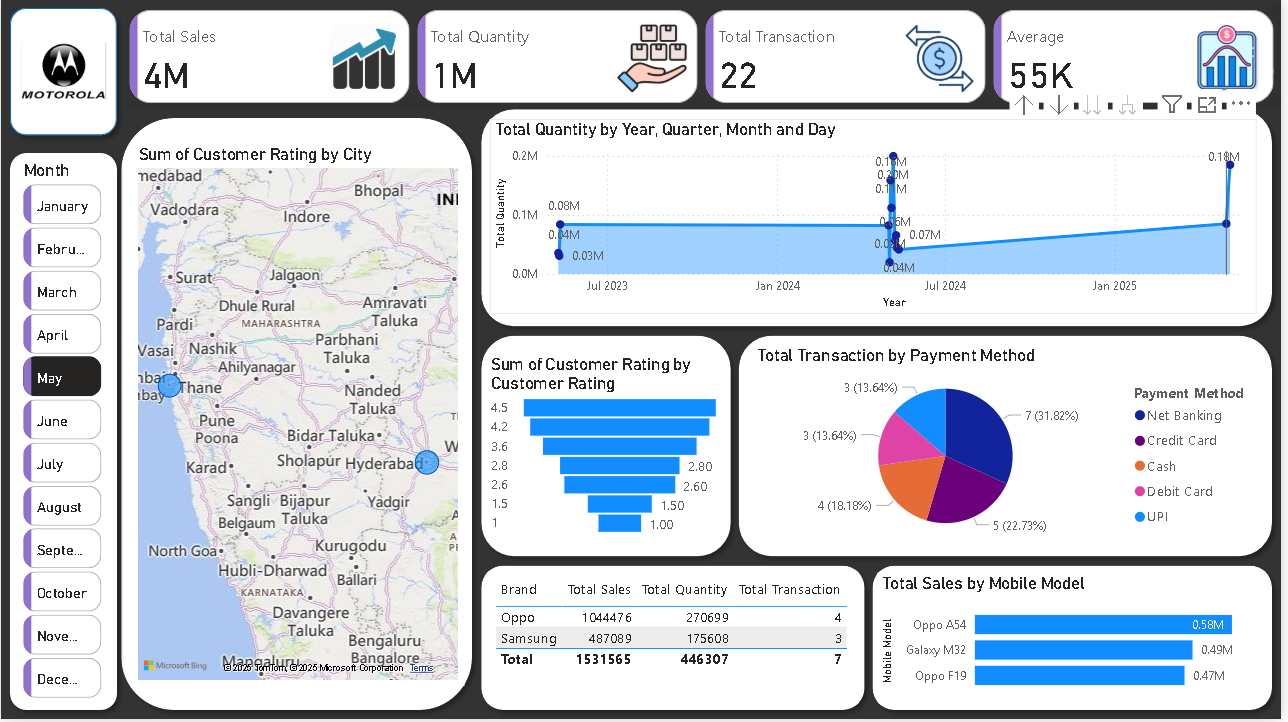

What the dashboard file says about the page in this screenshot:
{"tool":"powerbi","page":{"name":"Page 1","canvas":[1280,720],"ordinal":0},"visuals":[{"type":"shape","box":[471.2,557.5,401.2,162.5],"z":0},{"type":"shape","box":[862.5,557.5,417.5,162.5],"z":1000},{"type":"shape","box":[471.2,327.5,267.5,238.8],"z":2000},{"type":"shape","box":[111.2,110,368.8,610],"z":3000},{"type":"shape","box":[728.8,327.5,551.2,238.8],"z":4000},{"type":"shape","box":[471.2,101.2,808.8,235],"z":5000},{"type":"shape","box":[0,0,124.7,145.2],"z":6000},{"type":"image","box":[13.7,17.8,97.3,109.6],"z":7000},{"type":"shape","box":[0,145,125,575],"z":8000},{"type":"advancedSlicerVisual","fields":{"Values":["Sheet1.Date.Variation.Date Hierarchy.Month"]},"box":[17.5,161.2,88.8,547.5],"z":9000},{"type":"cardVisual","fields":{"Data":["Sheet1.Total Sales","Sheet1.Total Quantity","Sheet1.Total Transaction","Sheet1.Average"]},"box":[123.8,6.2,1156.2,103.8],"z":10000},{"type":"lineChart","fields":{"Category":["Sheet1.Date.Variation.Date Hierarchy.Year","Sheet1.Date.Variation.Date Hierarchy.Quarter","Sheet1.Date.Variation.Date Hierarchy.Month","Sheet1.Date.Variation.Date Hierarchy.Day"],"Y":["Sheet1.Total Quantity"]},"box":[488.8,120,767.5,195],"z":11000},{"type":"clusteredBarChart","fields":{"Category":["Sheet1.Mobile Model"],"Y":["Sheet1.Total Sales"]},"box":[876.2,573.8,383.8,128.8],"z":12000},{"type":"map","fields":{"Size":["Sum(Sheet1.Customer Rating)"],"Category":["Sheet1.City"]},"box":[132.5,145,330,541.2],"z":13000},{"type":"pieChart","fields":{"Category":["Sheet1.Payment Method"],"Y":["Sheet1.Total Transaction"]},"box":[751.2,346.2,508.8,202.5],"z":14000},{"type":"funnel","fields":{"Category":["Sheet1.Customer Rating"],"Y":["Sum(Sheet1.Customer Rating)"]},"box":[485,355,240,185],"z":15000},{"type":"tableEx","fields":{"Values":["Sheet1.Brand","Sheet1.Total Sales","Sheet1.Total Quantity","Sheet1.Total Transaction"]},"box":[488.8,573.8,365,128.8],"z":16000}]}

Visuals, with their boxes in screenshot pixels (x1, y1, x2, y2), scaled from the page's 1280x720 canvas onto the 1288x722 screenshot:
shape: <bbox>474, 559, 878, 721</bbox>
shape: <bbox>868, 559, 1287, 721</bbox>
shape: <bbox>474, 328, 743, 568</bbox>
shape: <bbox>112, 110, 483, 721</bbox>
shape: <bbox>733, 328, 1287, 568</bbox>
shape: <bbox>474, 101, 1287, 337</bbox>
shape: <bbox>0, 0, 125, 146</bbox>
image: <bbox>14, 18, 112, 128</bbox>
shape: <bbox>0, 145, 126, 721</bbox>
advancedSlicerVisual - Sheet1.Date.Variation.Date Hierarchy.Month: <bbox>18, 162, 107, 711</bbox>
cardVisual - Sheet1.Total Sales x Sheet1.Total Quantity: <bbox>125, 6, 1287, 110</bbox>
lineChart - Sheet1.Date.Variation.Date Hierarchy.Year x Sheet1.Date.Variation.Date Hierarchy.Quarter: <bbox>492, 120, 1264, 316</bbox>
clusteredBarChart - Sheet1.Mobile Model x Sheet1.Total Sales: <bbox>882, 575, 1268, 705</bbox>
map - Sum(Sheet1.Customer Rating) x Sheet1.City: <bbox>133, 145, 465, 688</bbox>
pieChart - Sheet1.Payment Method x Sheet1.Total Transaction: <bbox>756, 347, 1268, 550</bbox>
funnel - Sheet1.Customer Rating x Sum(Sheet1.Customer Rating): <bbox>488, 356, 730, 542</bbox>
tableEx - Sheet1.Brand x Sheet1.Total Sales: <bbox>492, 575, 859, 705</bbox>
